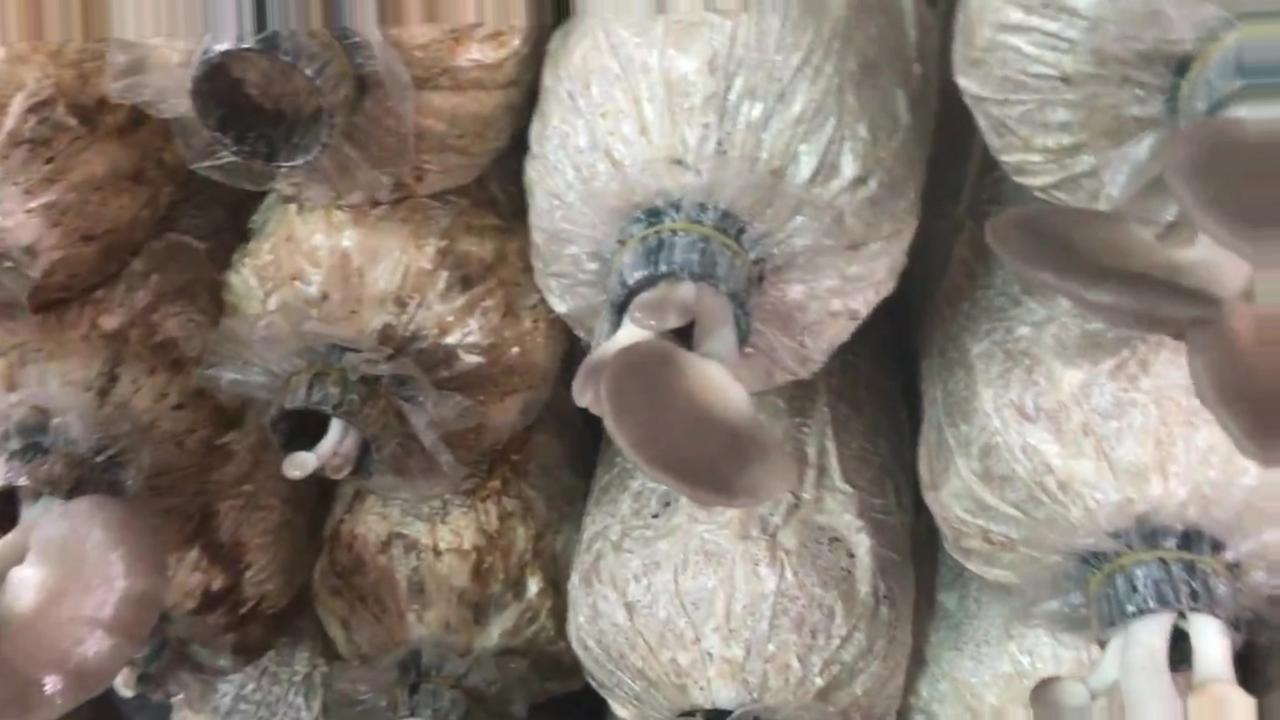nam: (982, 16, 1280, 465), (573, 227, 792, 506), (1, 459, 166, 720), (1030, 537, 1259, 720), (271, 378, 385, 480)
